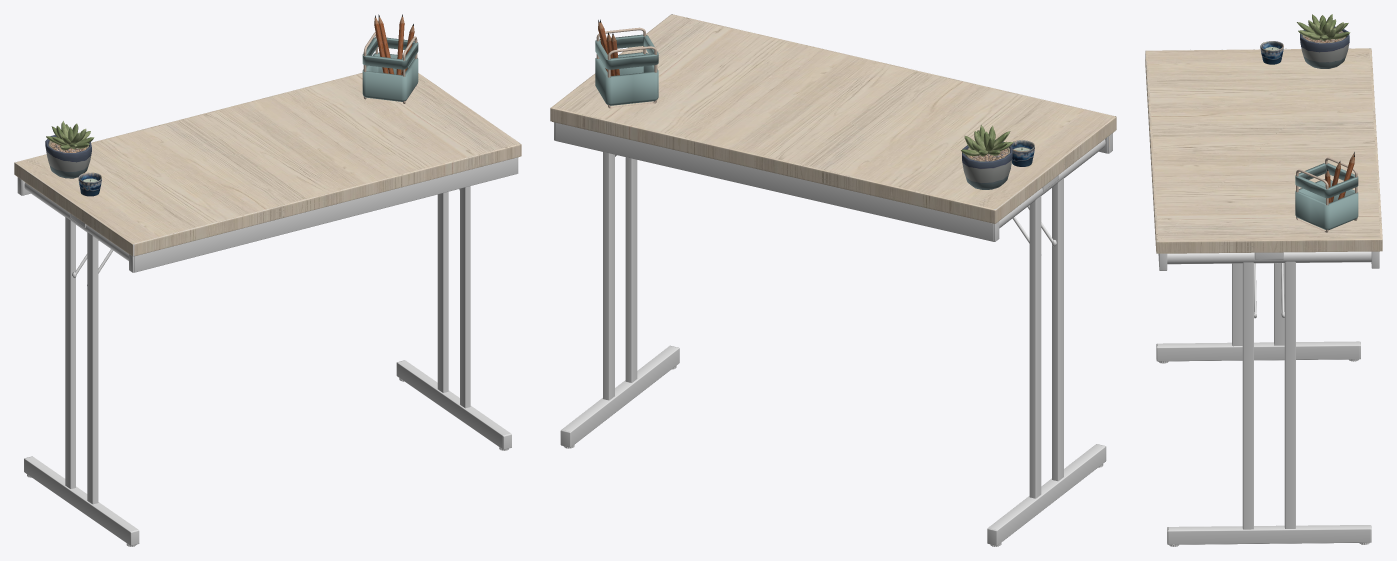
File: deskModel.glb
3 renders of one model, left to right at view 1: azimuth 30°, elevation 25°; view 2: azimuth 150°, elevation 25°; view 3: azimuth 270°, elevation 25°, orthographic. The views are drawn at different scales.
Parts seen in each view (by area): view 1: desk_surface, desk_legs, Cube, G-cactus_gasteria_1, Cylinder.001; view 2: desk_surface, desk_legs, Cube, G-cactus_gasteria_1; view 3: desk_surface, desk_legs, Cube, G-cactus_gasteria_1, pot_1, Cylinder.001, Cube.001.
Part boxes in pixels (left/top/right/bottom): desk_surface: left=14, top=72, right=521, bottom=256; desk_legs: left=15, top=143, right=520, bottom=546; Cube: left=362, top=37, right=418, bottom=101; G-cactus_gasteria_1: left=45, top=121, right=94, bottom=178; Cylinder.001: left=374, top=14, right=414, bottom=75; desk_surface: left=550, top=14, right=1116, bottom=223; desk_legs: left=554, top=14, right=1115, bottom=546; Cube: left=595, top=34, right=658, bottom=105; G-cactus_gasteria_1: left=961, top=125, right=1013, bottom=189; desk_surface: left=1145, top=48, right=1382, bottom=253; desk_legs: left=1145, top=48, right=1379, bottom=546; Cube: left=1295, top=163, right=1358, bottom=229; G-cactus_gasteria_1: left=1297, top=14, right=1350, bottom=68; pot_1: left=1260, top=41, right=1283, bottom=64; Cylinder.001: left=1325, top=152, right=1354, bottom=203; Cube.001: left=1296, top=157, right=1357, bottom=232.
Bounding box in the file's own units: 1.01 × 0.915 × 0.5243.
14 materials, 9 textured.
